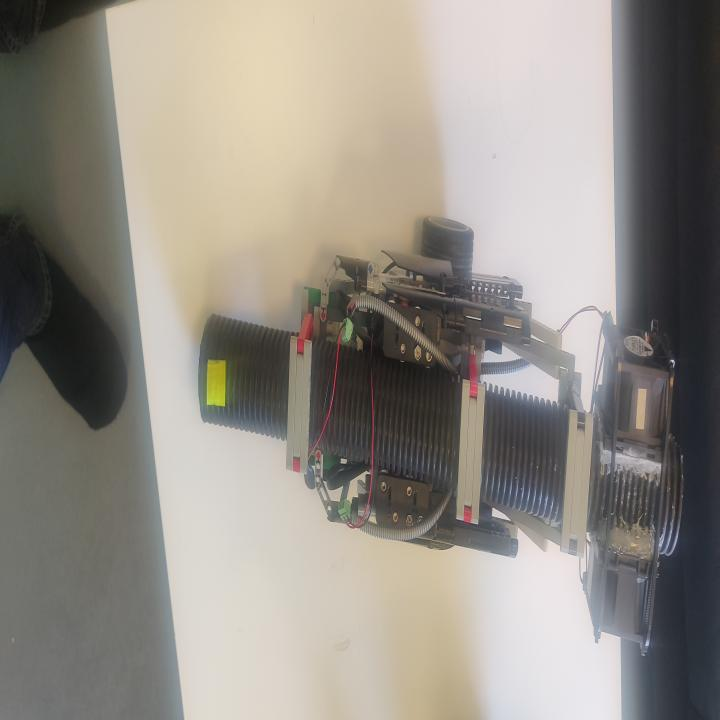robot: (197, 228, 680, 643)
robot-front: (199, 316, 290, 439)
